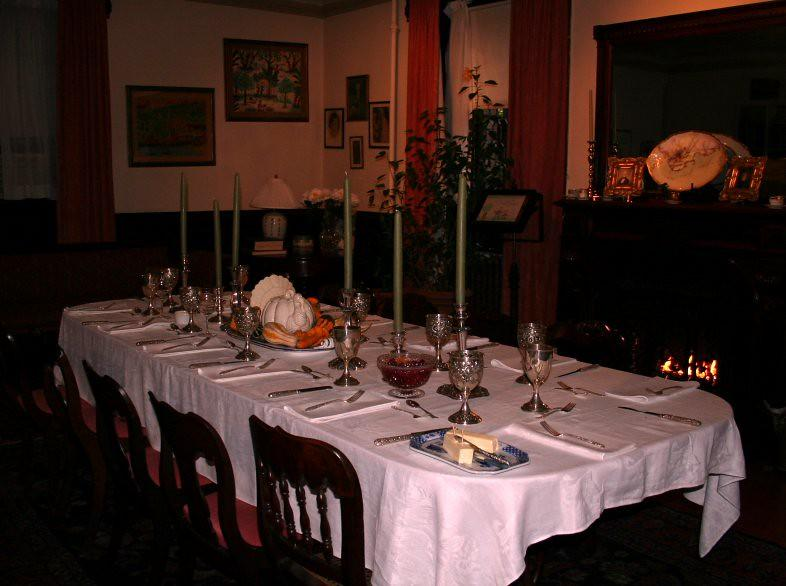table: (58, 290, 746, 585)
